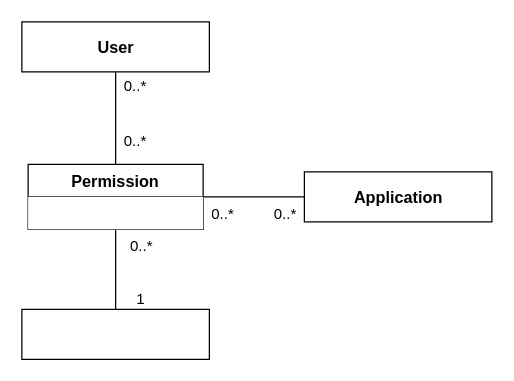
Image size: 514x381. Some labels were removed from this diagram. Here are the shapes that lost their labels. From the top down, the centre of each, then its label:
At point 115,212: "- Type".
At point 115,333: "Organization".
